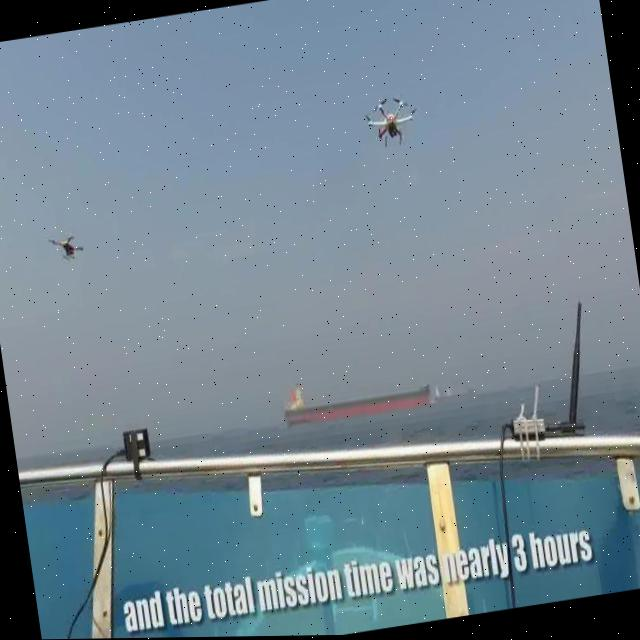drone: (358, 89, 421, 151), (45, 223, 87, 268)
